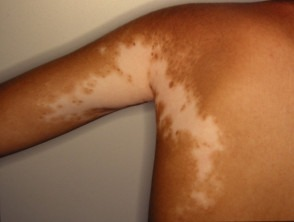Melasma: (135, 0, 163, 70)
